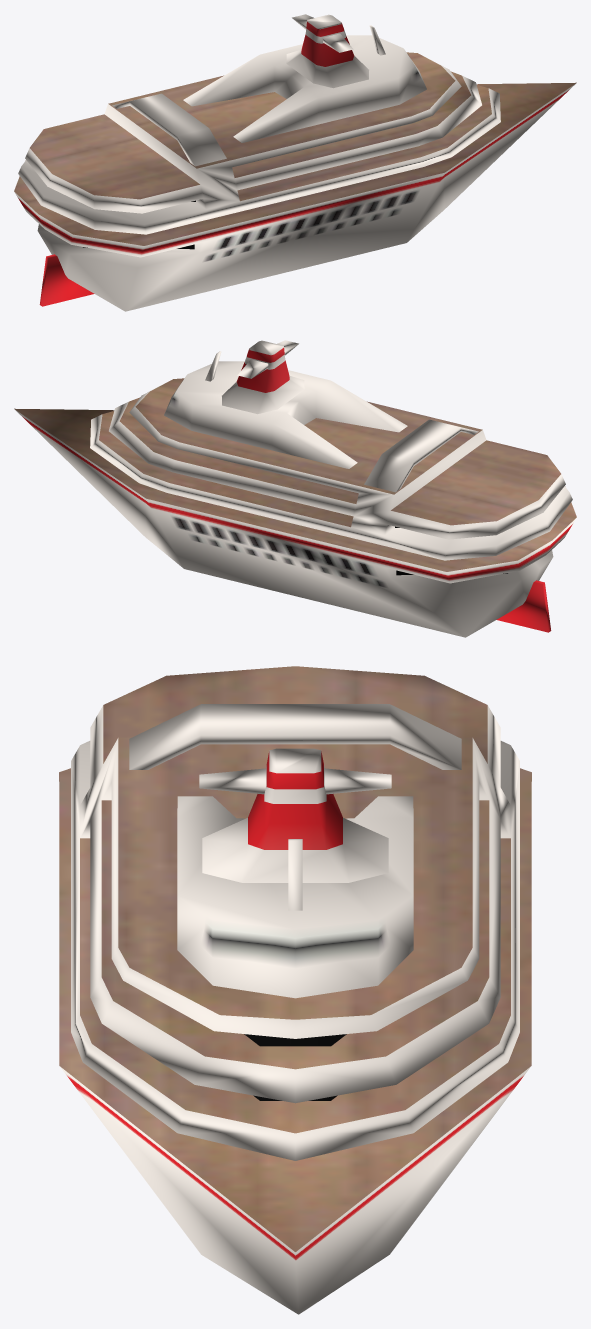
Rendered from SAVE.ICO.obj.
The picture shows the model from 3 angles, top to bottom: view 1: azimuth 30°, elevation 25°; view 2: azimuth 150°, elevation 25°; view 3: azimuth 270°, elevation 25°; orthographic projection. The views are drawn at different scales.
Bounding box in the file's own units: 4.33 × 1.67 × 1.64.
1 material, 1 textured.
